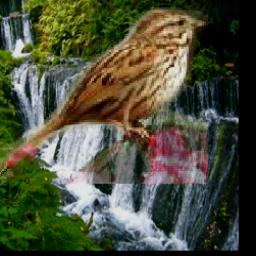Sparrow: (0, 3, 209, 184)
